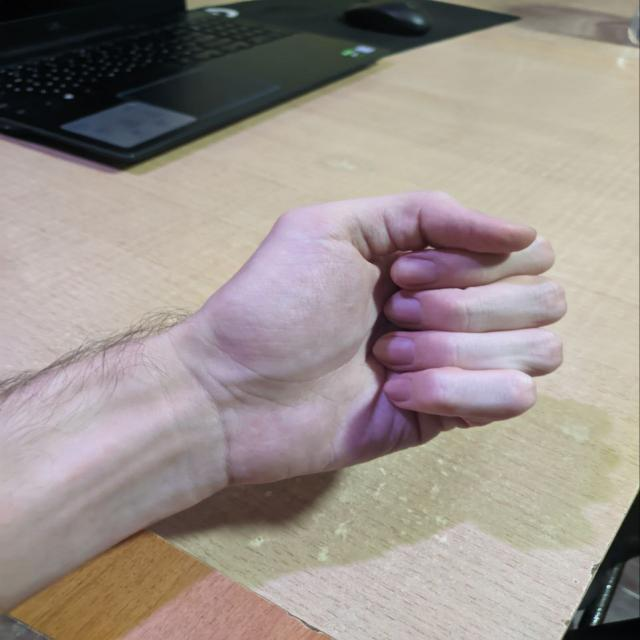a: (253, 183, 572, 445)
